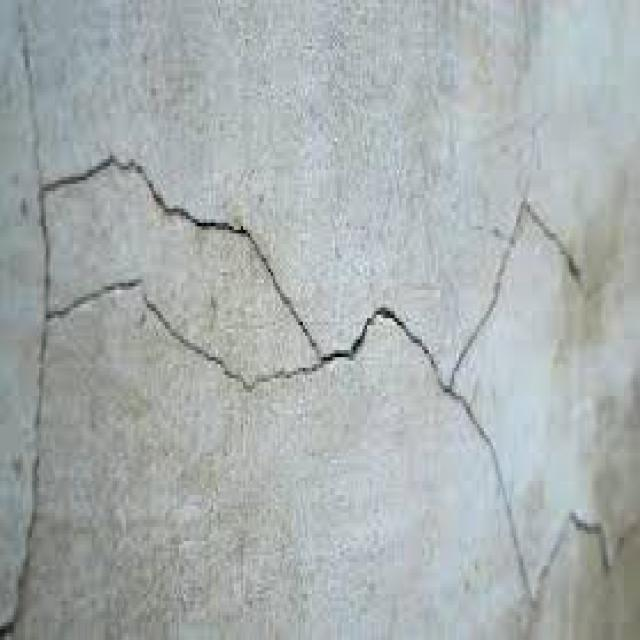Crack: (37, 149, 323, 396), (450, 375, 638, 615), (0, 0, 50, 636), (445, 188, 587, 386), (323, 283, 443, 396)
